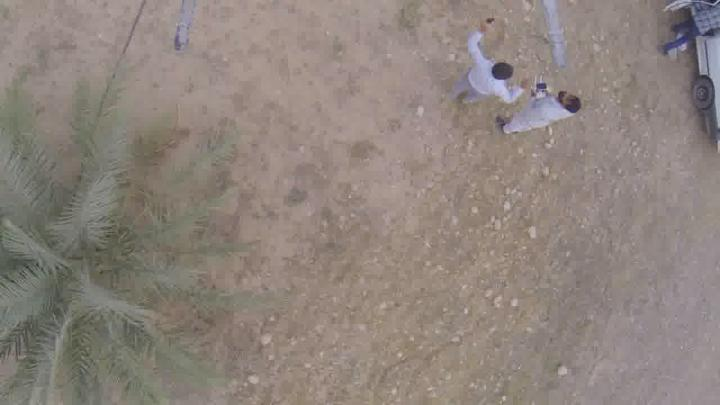Date-Palm-Crown: (0, 159, 162, 359)
